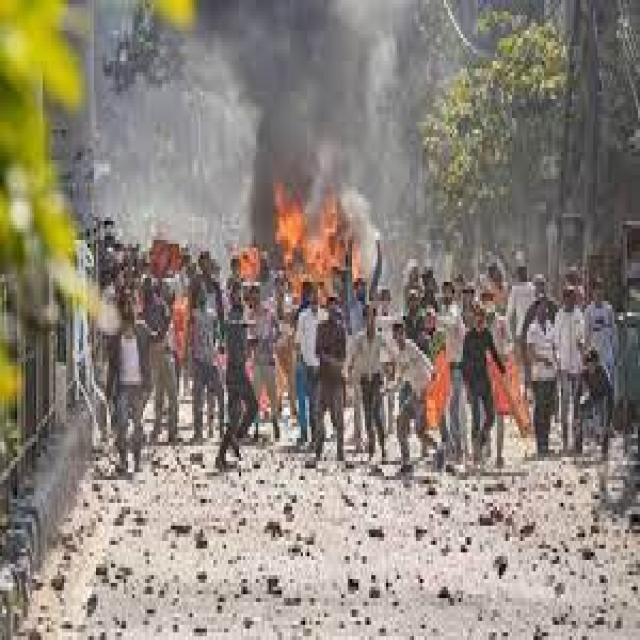Fire: (273, 185, 360, 278)
Smoke: (201, 2, 413, 184), (100, 75, 199, 204), (86, 1, 199, 74), (361, 189, 428, 279), (102, 203, 204, 261), (206, 191, 249, 245), (251, 186, 272, 256)
